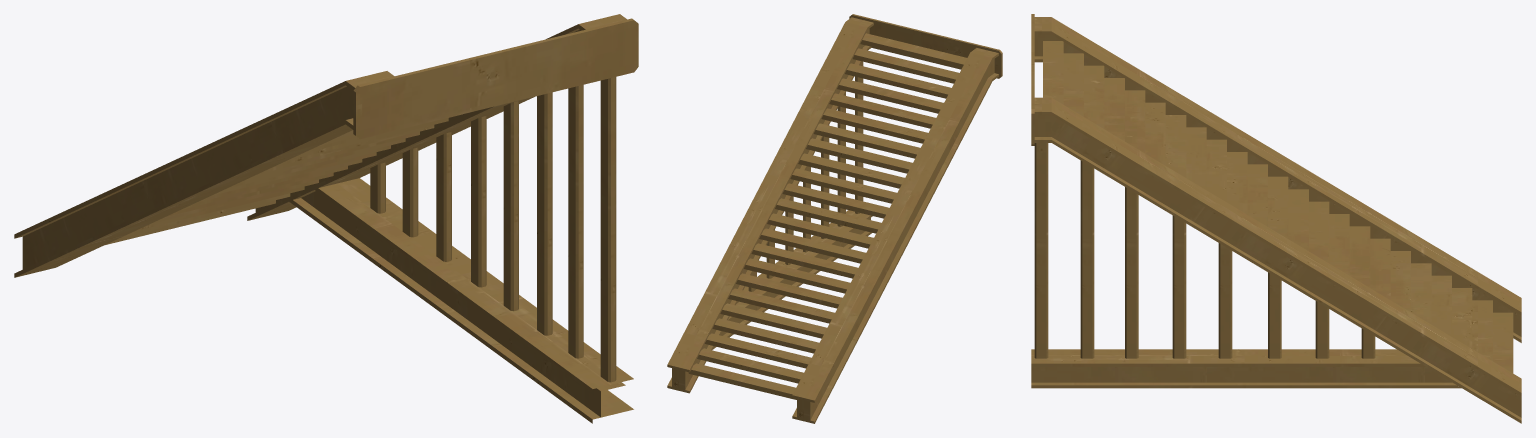
3 renders of one model, left to right at view 1: azimuth 30°, elevation 25°; view 2: azimuth 150°, elevation 25°; view 3: azimuth 270°, elevation 25°, orthographic. The views are drawn at different scales.
Visible parts, largest first — view 1: body0_model0_lod0_mesh0; view 2: body0_model0_lod0_mesh0; view 3: body0_model0_lod0_mesh0.
Boxes of the visible parts, x1,y1,x2,y2 form: body0_model0_lod0_mesh0: [14, 14, 638, 423]; body0_model0_lod0_mesh0: [667, 14, 1002, 423]; body0_model0_lod0_mesh0: [1031, 14, 1521, 423].
Bounding box in the file's own units: 136 × 204 × 288.
1 material, 1 textured.
